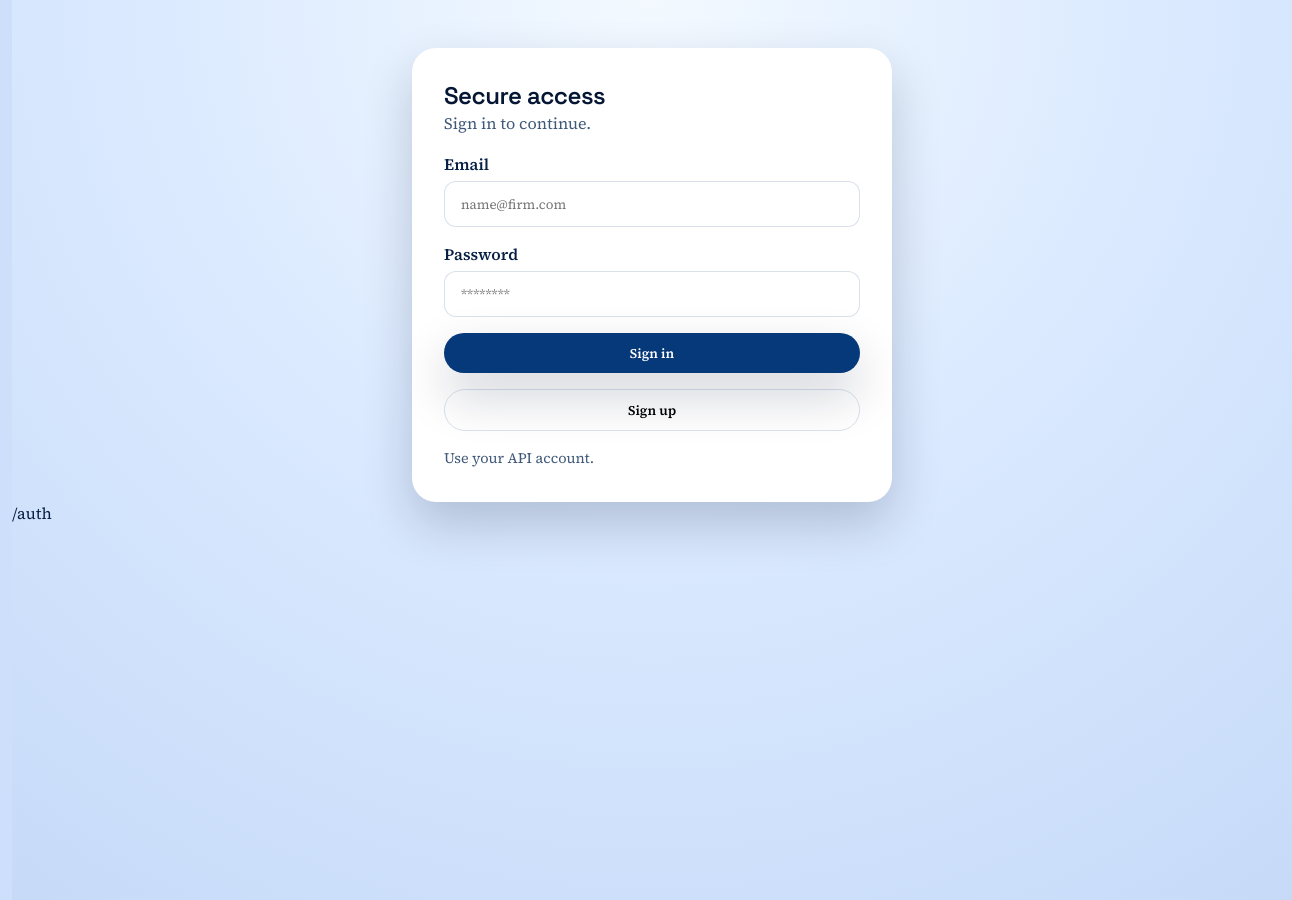
Scenario: Auth page › shows authenticator MFA when the account has TOTP enabled
Step 1. Type "local.dev@jurisdigta.test" into the field labelled "Email" → [652, 204], box [444,181,860,227]
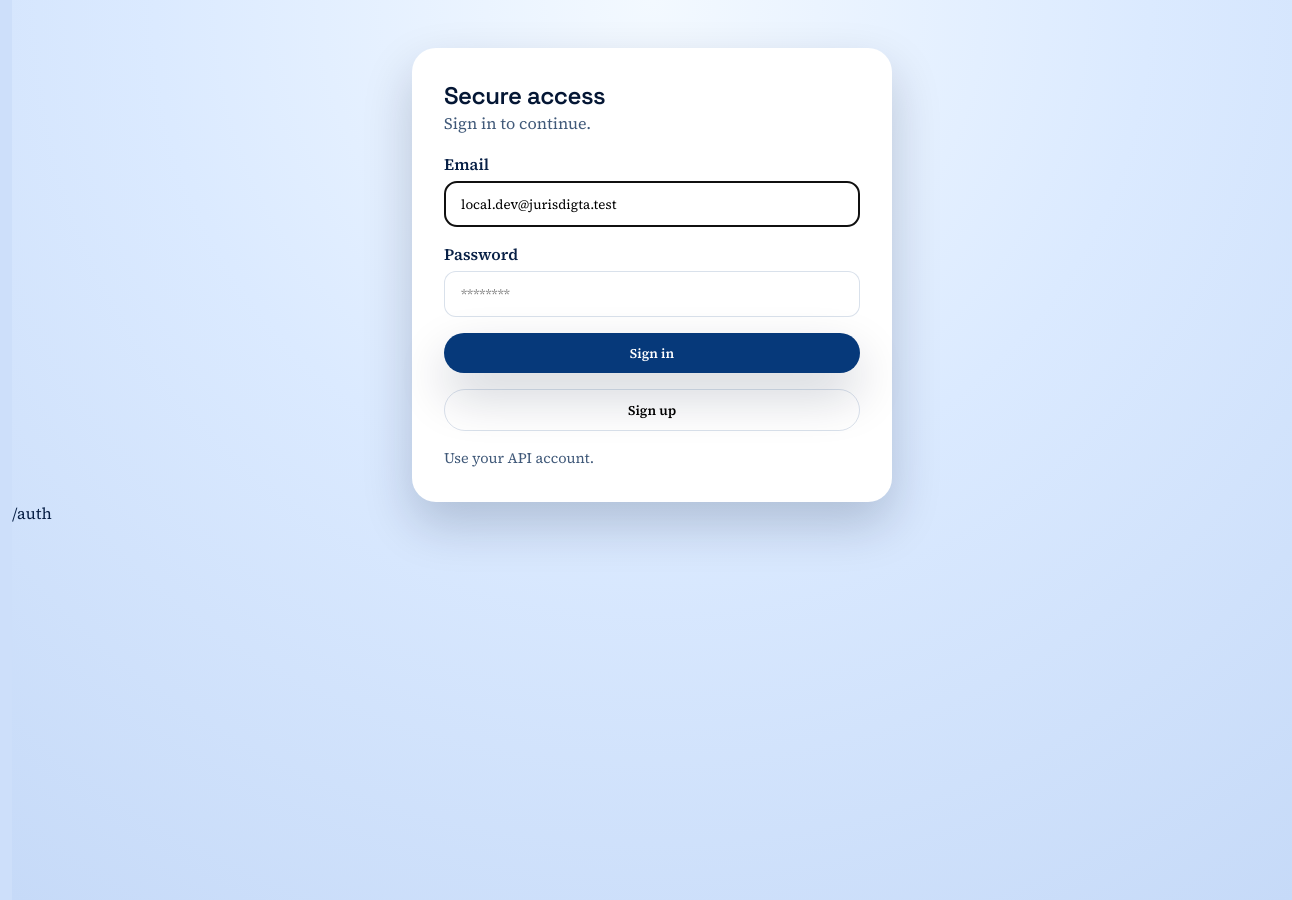
Step 2. Type "LocalTest123!" into the password field labelled "Password" → [652, 294], box [444,271,860,317]
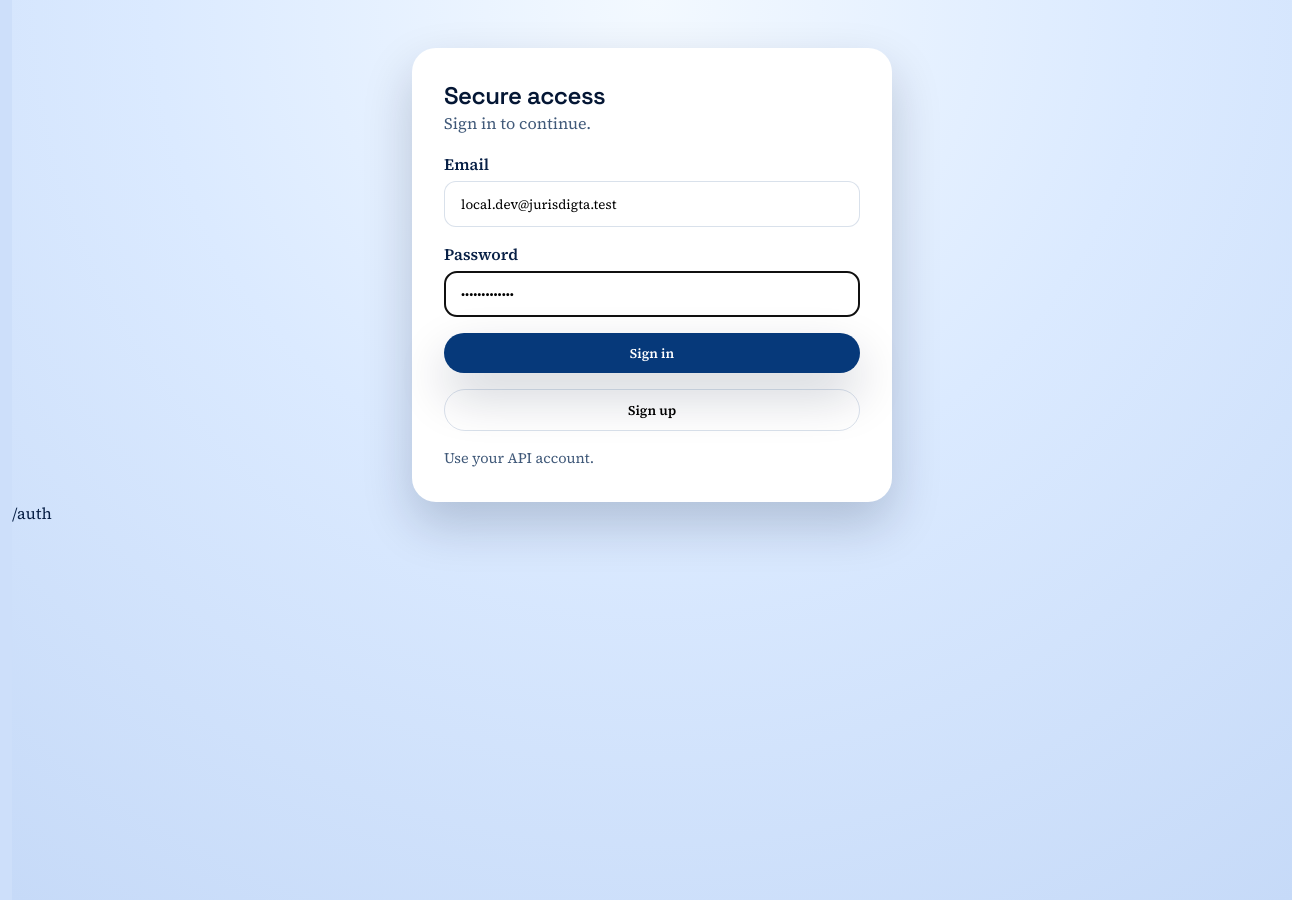
Step 3. Click the button "Sign in" → [652, 353], box [444,333,860,373]
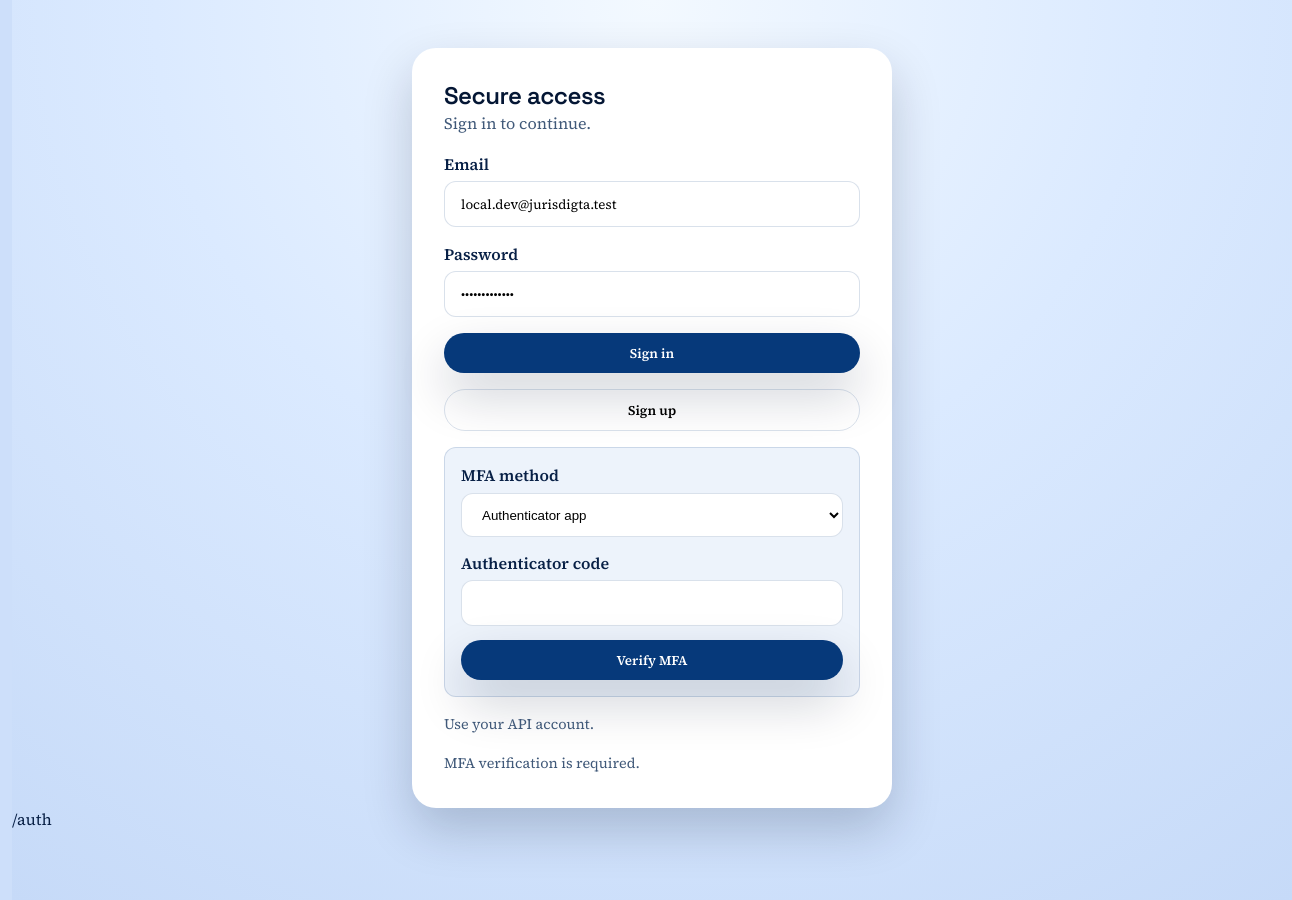
expect the dropdown labelled "MFA method" is shown: met, box [461,493,843,537]
expect the field labelled "Authenticator code" is shown: met
Step 4. Type "123456" into the field labelled "Authenticator code" → [652, 603], box [461,580,843,626]
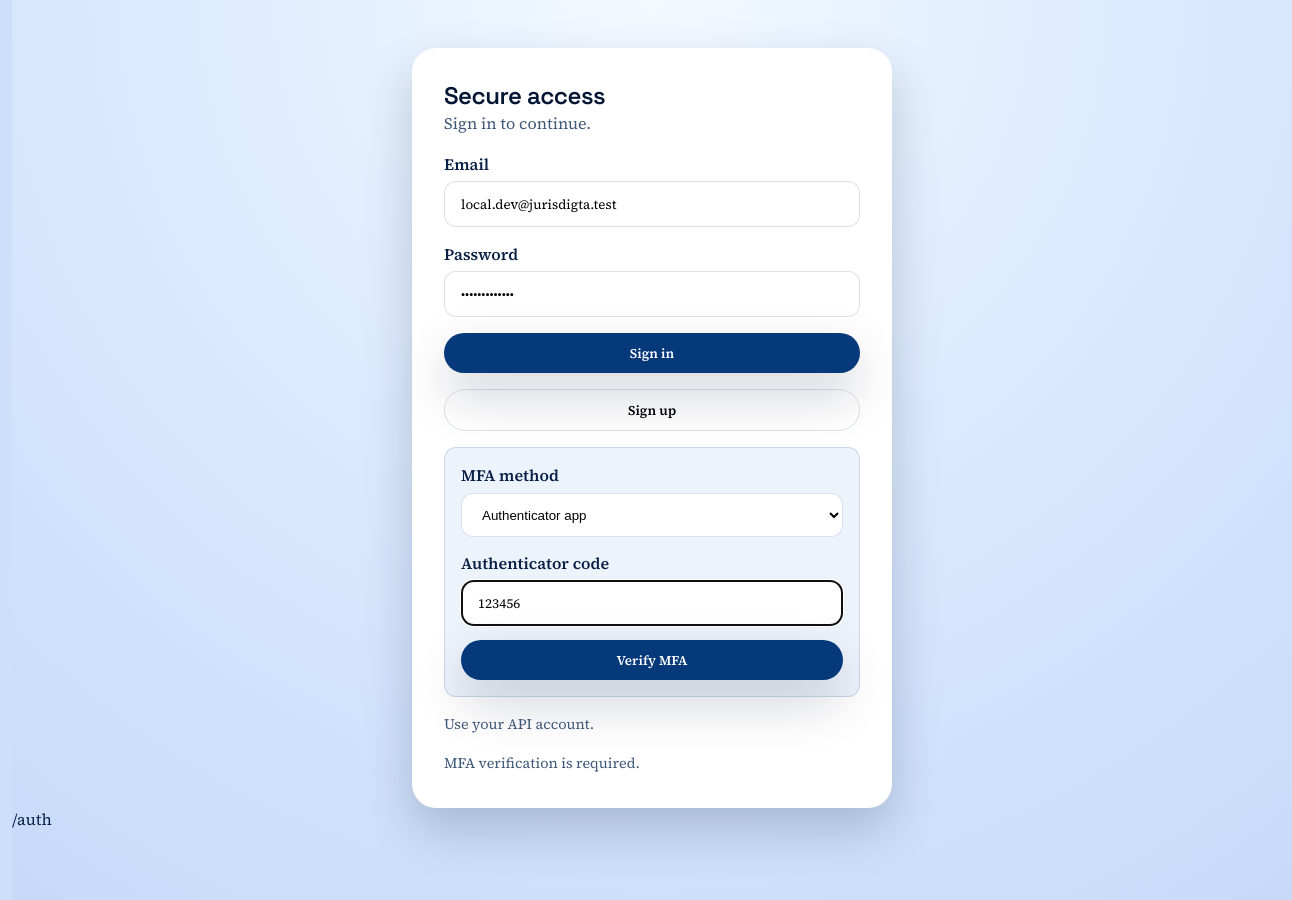
Step 5. Click the button "Verify MFA" → [652, 660], box [461,640,843,680]
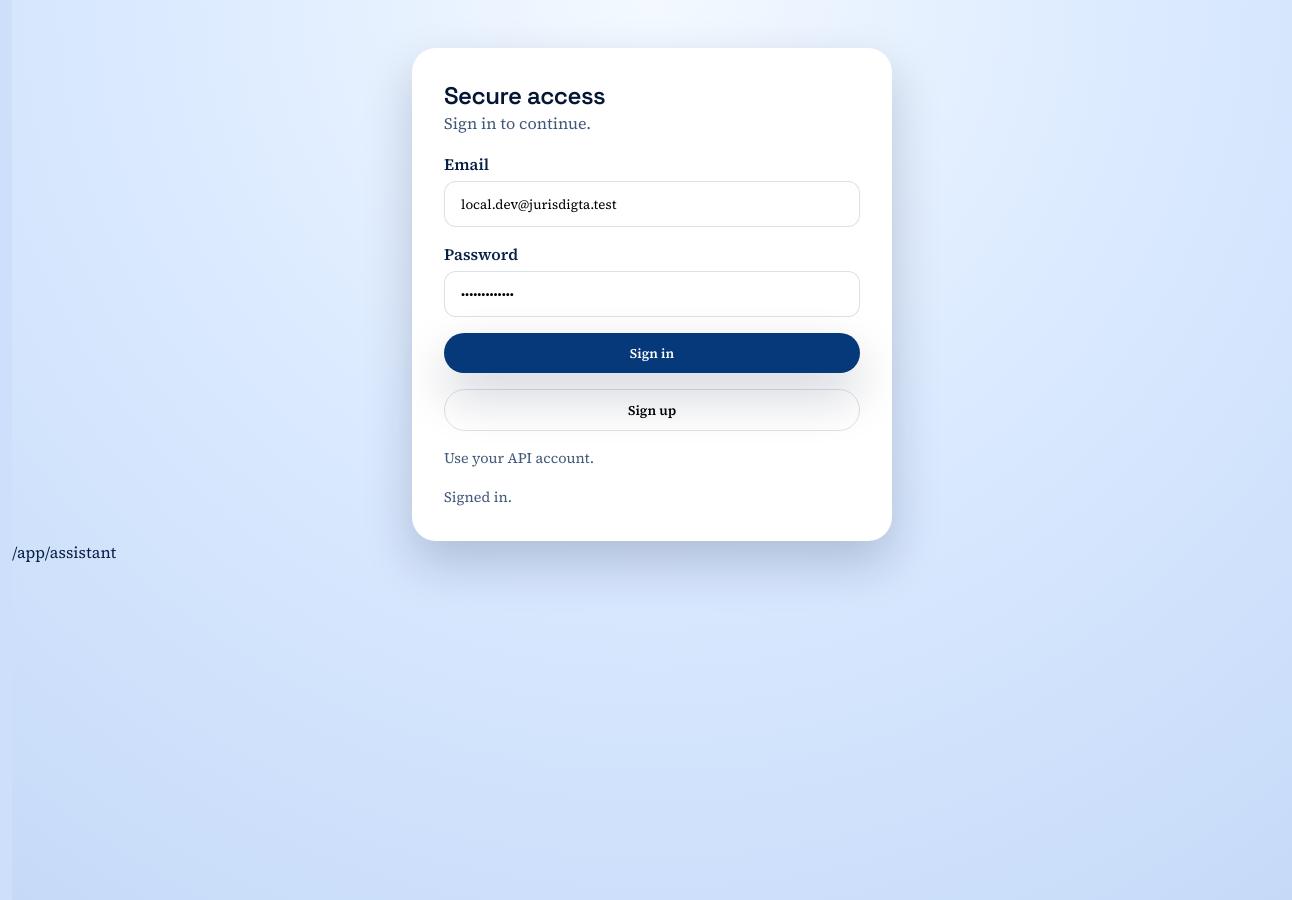
expect the text with test id "current-path" reads "/app/assistant": met, box [12,541,116,563]
